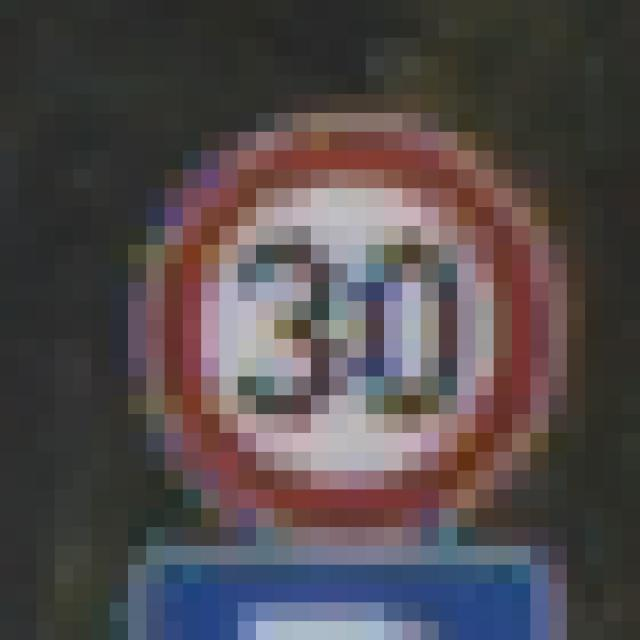Speed Limit -30-: (82, 84, 540, 536)
